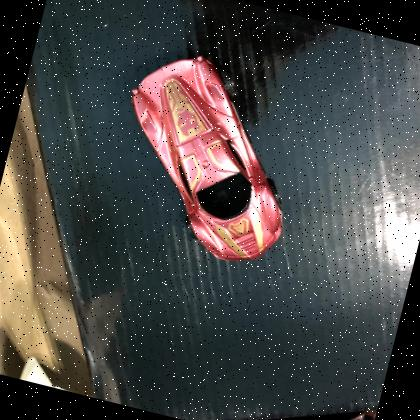Car: (95, 40, 320, 276)
